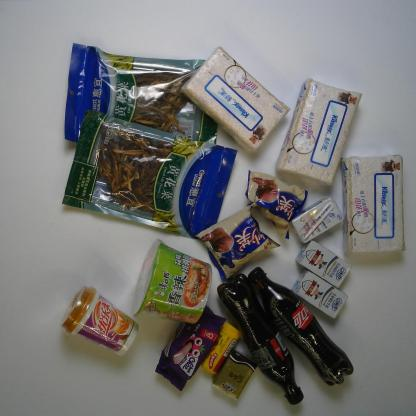Candy: (201, 321, 243, 375)
Dessert: (196, 202, 280, 282), (153, 301, 226, 391), (244, 169, 310, 239)
Dried Food: (61, 110, 238, 239), (64, 42, 218, 158)
Drink: (247, 266, 354, 386), (216, 274, 305, 404)
Instant Drink: (61, 285, 139, 357)
Instant Noodles: (134, 238, 213, 324)
Milk: (289, 268, 347, 319), (296, 240, 351, 288), (292, 195, 344, 245)
Tissue: (182, 46, 290, 154), (277, 78, 363, 186), (340, 154, 406, 257), (213, 348, 257, 398)
